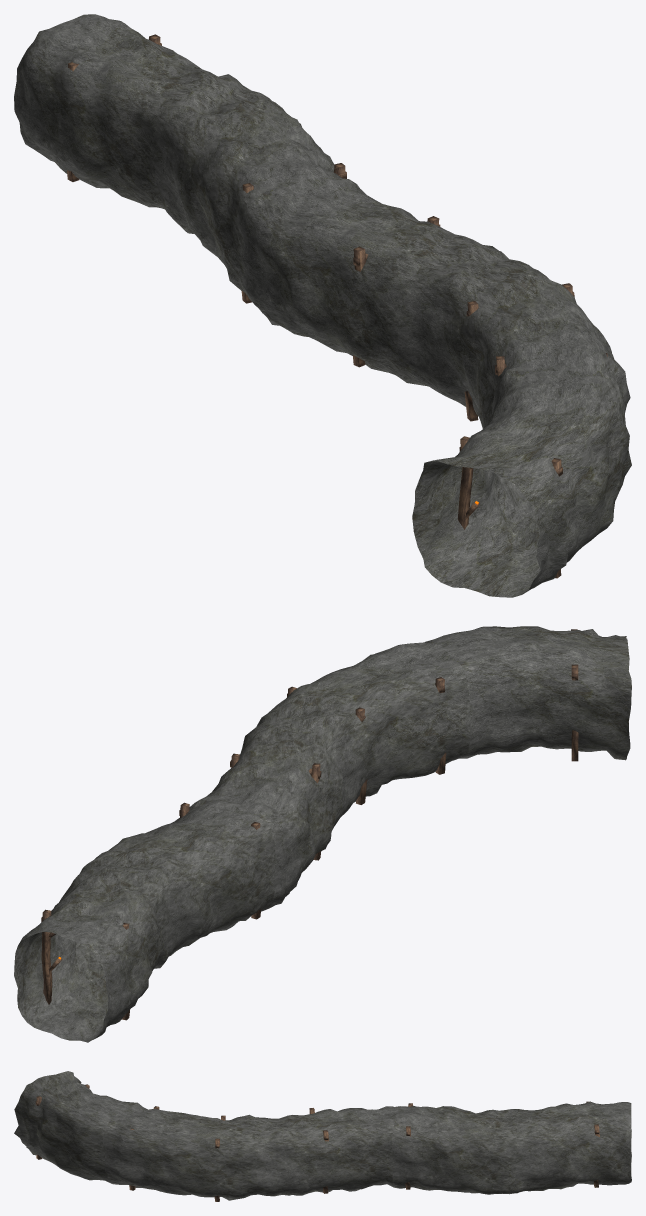
The model's file is realistic_cave_2.0 (1).glb.
The picture shows the model from 3 angles, top to bottom: view 1: azimuth 30°, elevation 25°; view 2: azimuth 150°, elevation 25°; view 3: azimuth 270°, elevation 25°; orthographic projection. The views are drawn at different scales.
Visible parts, largest first — view 1: Cube.026, Cube.064, Cube.074; view 2: Cube.026, Cube.001, Cube.064; view 3: Cube.026, Cube.064.
Boxes of the visible parts, box(x1,y1,x2,y2) form: Cube.026: box(14, 14, 631, 597); Cube.064: box(353, 216, 574, 421); Cube.074: box(457, 436, 562, 578); Cube.026: box(14, 626, 631, 1042); Cube.001: box(41, 909, 130, 1020); Cube.064: box(230, 686, 367, 860); Cube.026: box(14, 1071, 631, 1200); Cube.064: box(214, 1108, 328, 1201).
Bounding box in the file's own units: 2512 × 1144 × 8496.
Materials: 3 (2 with a texture image).
